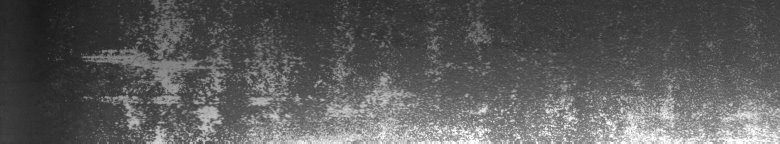kb: (81, 4, 728, 136)
